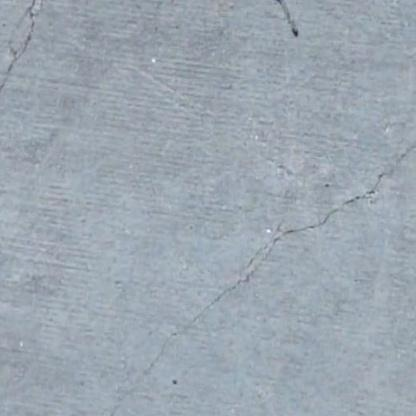Cracks: (52, 116, 416, 416), (0, 0, 61, 133)
